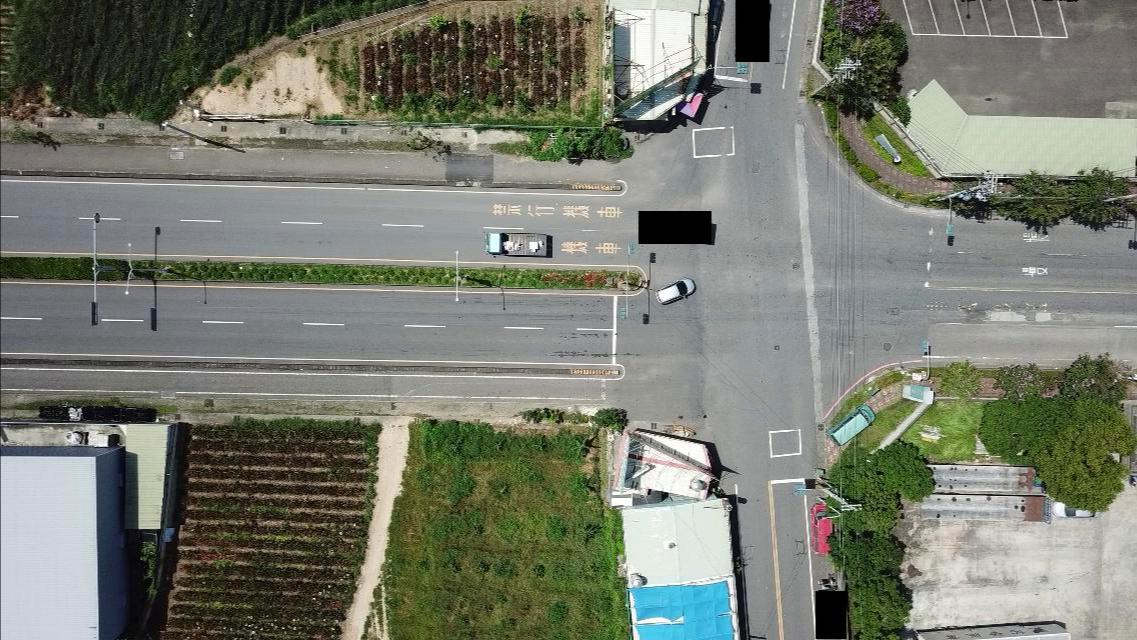vehicle: (828, 406, 877, 447), (809, 500, 837, 559), (655, 276, 695, 304), (1053, 497, 1097, 518), (706, 0, 724, 43)
